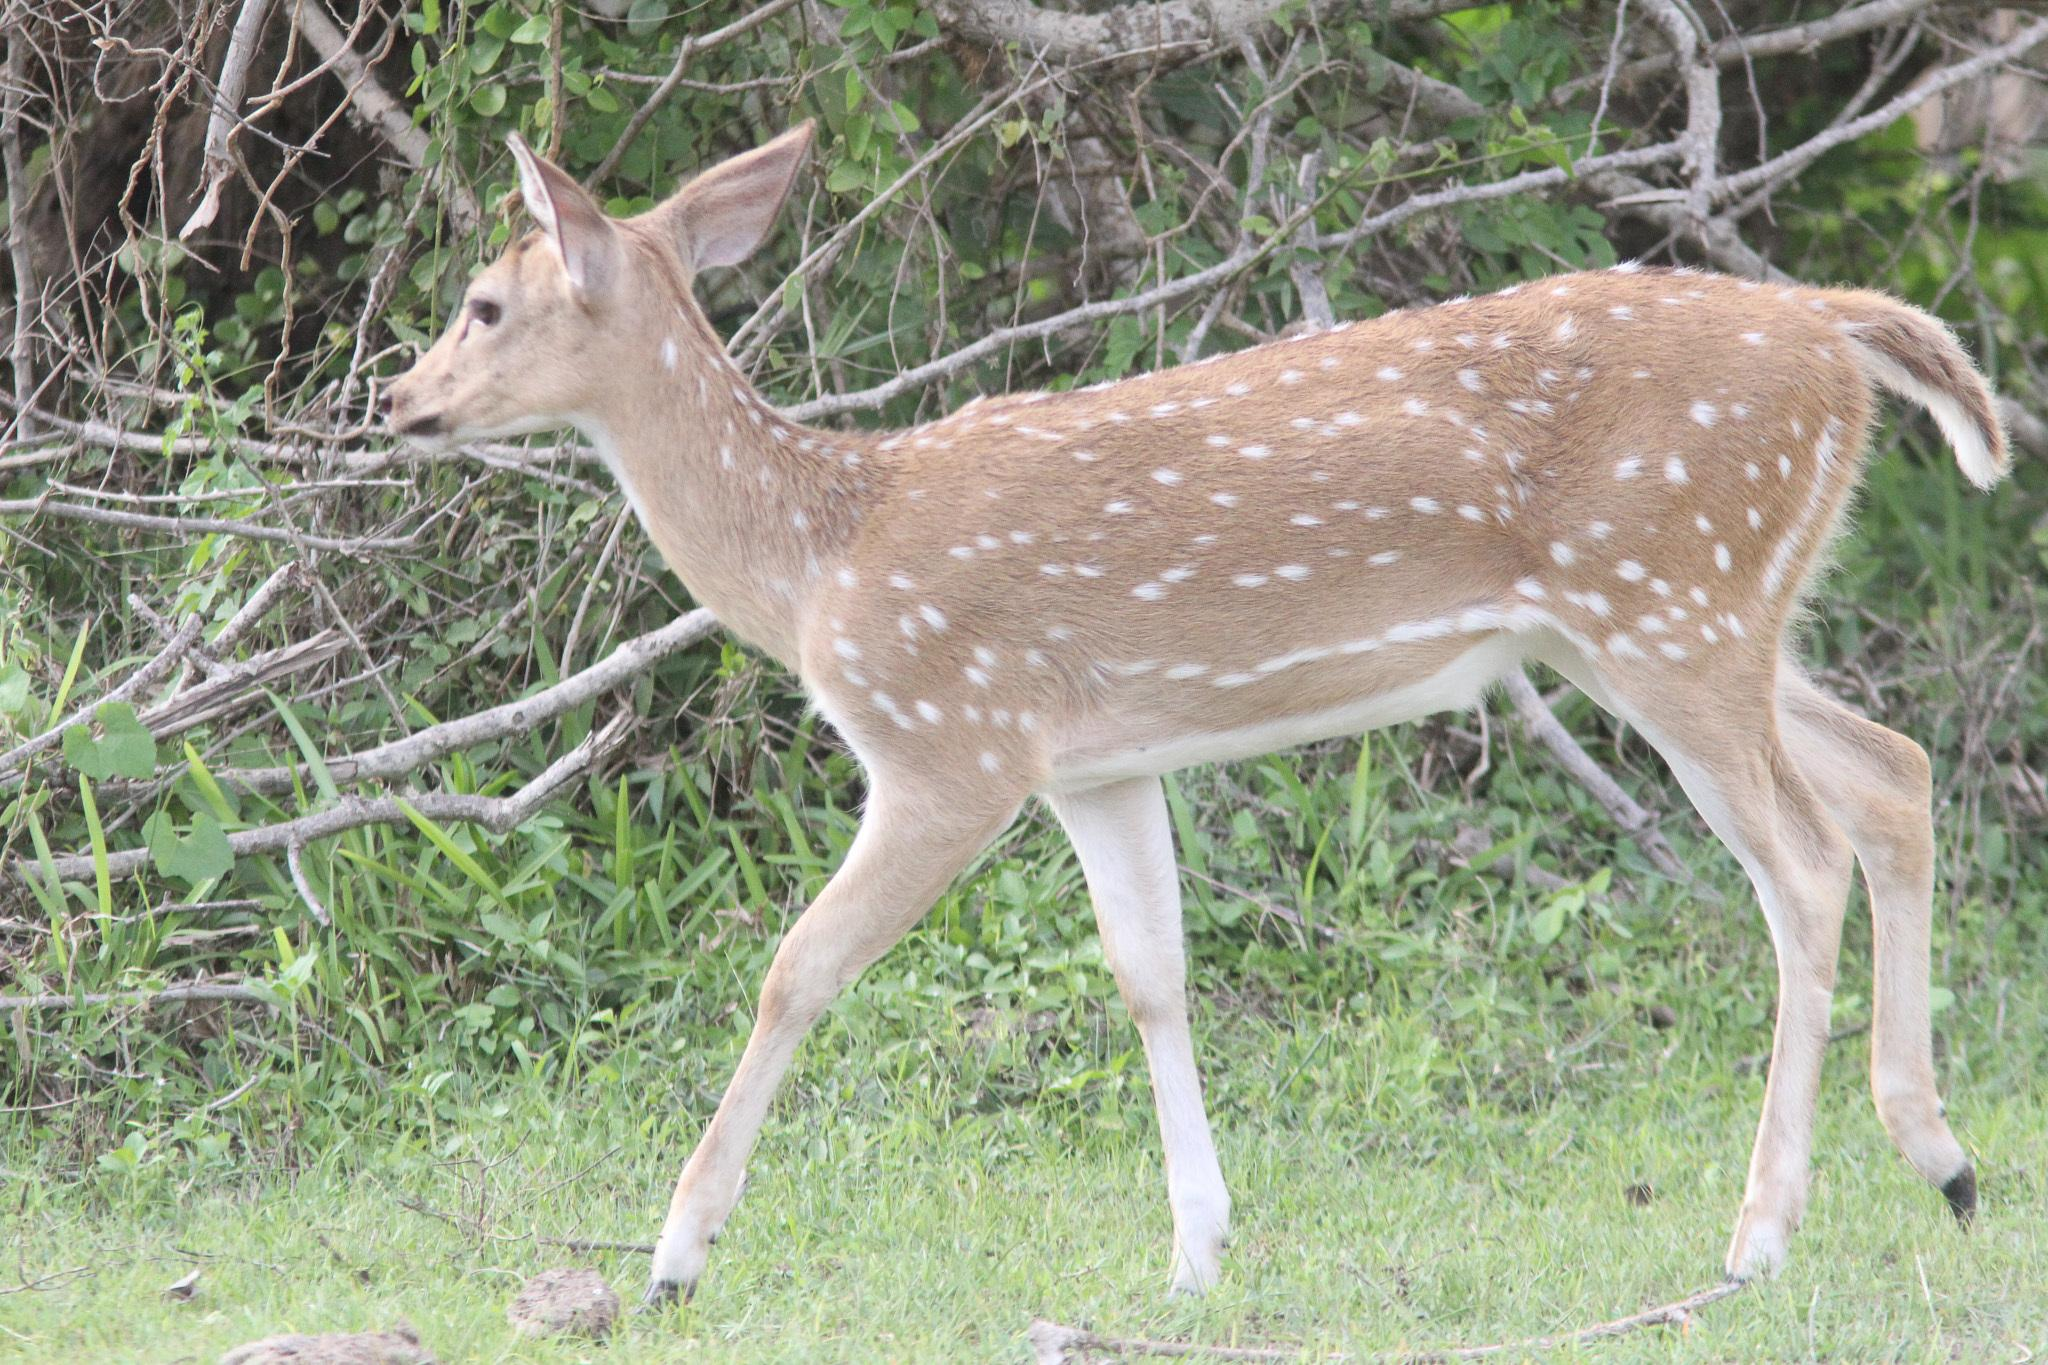Deer: (390, 128, 2007, 1298)
